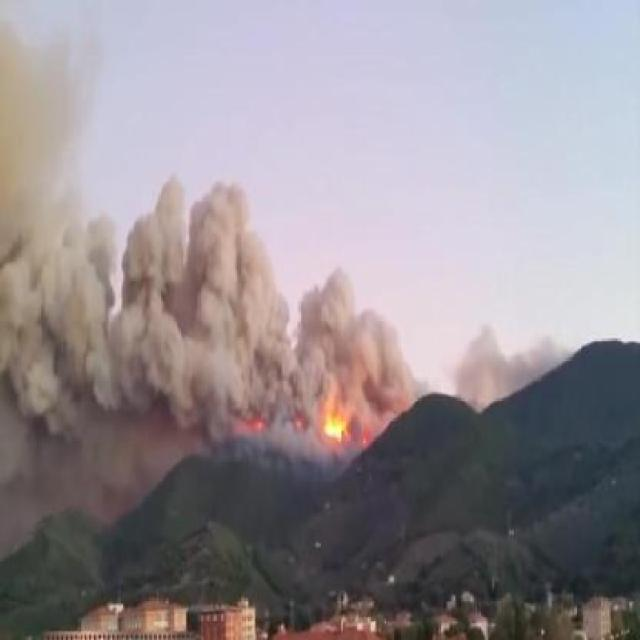Fire: (320, 398, 352, 452)
